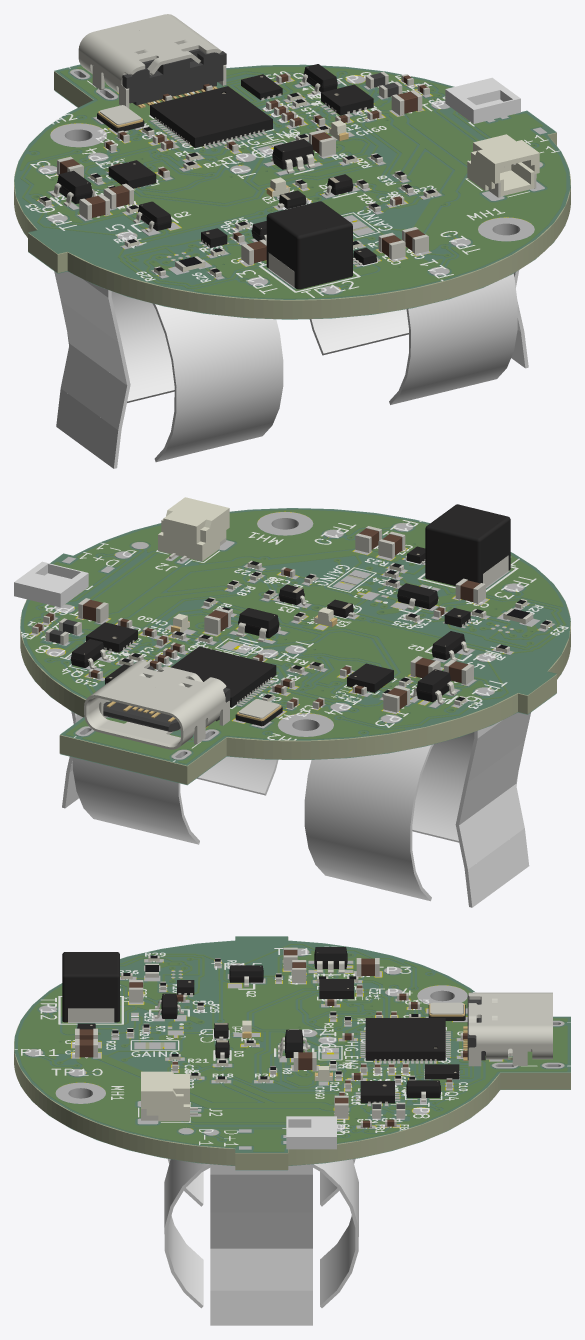
Rendered from handbell-pcba.glb.
3 renders of one model, top to bottom at view 1: azimuth 30°, elevation 25°; view 2: azimuth 150°, elevation 25°; view 3: azimuth 270°, elevation 25°, orthographic. The views are drawn at different scales.
Visible parts, largest first — view 1: =>[0:1:1:51], =>[0:1:1:45] (×2), =>[0:1:1:46], =>[0:1:1:53], =>[0:1:1:9], =>[0:1:1:47], =>[0:1:1:33], =>[0:1:1:49], =>[0:1:1:25], =>[0:1:1:31], =>[0:1:1:41], =>[0:1:1:15] (×4) (+6 smaller); view 2: =>[0:1:1:51], =>[0:1:1:45] (×2), =>[0:1:1:46], =>[0:1:1:53], =>[0:1:1:9], =>[0:1:1:47], =>[0:1:1:49], =>[0:1:1:33], =>[0:1:1:15] (×7), =>[0:1:1:31], =>[0:1:1:25], =>[0:1:1:41] (+6 smaller); view 3: =>[0:1:1:51], =>[0:1:1:46], =>[0:1:1:45] (×2), =>[0:1:1:53], =>[0:1:1:47], =>[0:1:1:9], =>[0:1:1:49], =>[0:1:1:33], =>[0:1:1:25], =>[0:1:1:31], =>[0:1:1:17] (×3), =>[0:1:1:41] (+5 smaller).
Boxes of the visible parts, x1,y1,x2,y2 form: =>[0:1:1:51]: (14, 64, 570, 299); =>[0:1:1:45] (×2): (54, 270, 528, 468); =>[0:1:1:46]: (20, 67, 565, 298); =>[0:1:1:53]: (14, 65, 570, 319); =>[0:1:1:9]: (78, 14, 226, 108); =>[0:1:1:47]: (37, 69, 546, 294); =>[0:1:1:33]: (266, 201, 352, 289); =>[0:1:1:49]: (25, 67, 559, 297); =>[0:1:1:25]: (150, 86, 272, 147); =>[0:1:1:31]: (467, 134, 539, 197); =>[0:1:1:41]: (445, 77, 520, 123); =>[0:1:1:15] (×4): (79, 90, 422, 259); =>[0:1:1:51]: (20, 508, 570, 765); =>[0:1:1:45] (×2): (62, 711, 530, 907); =>[0:1:1:46]: (24, 510, 565, 763); =>[0:1:1:53]: (20, 509, 570, 784); =>[0:1:1:9]: (84, 660, 230, 749); =>[0:1:1:47]: (30, 512, 554, 759); =>[0:1:1:49]: (21, 520, 568, 761); =>[0:1:1:33]: (425, 504, 510, 587); =>[0:1:1:15] (×7): (78, 526, 485, 712); =>[0:1:1:31]: (158, 497, 229, 561); =>[0:1:1:25]: (171, 646, 276, 707); =>[0:1:1:41]: (14, 561, 88, 607); =>[0:1:1:51]: (14, 936, 570, 1152); =>[0:1:1:46]: (18, 944, 566, 1151); =>[0:1:1:45] (×2): (164, 1159, 358, 1325); =>[0:1:1:53]: (14, 937, 570, 1169); =>[0:1:1:47]: (25, 948, 563, 1149); =>[0:1:1:9]: (463, 992, 552, 1066); =>[0:1:1:49]: (14, 946, 570, 1146); =>[0:1:1:33]: (62, 952, 119, 1022); =>[0:1:1:25]: (365, 1018, 445, 1061); =>[0:1:1:31]: (141, 1071, 197, 1121); =>[0:1:1:17] (×3): (155, 965, 440, 1101); =>[0:1:1:41]: (286, 1116, 336, 1149).
Size of the model in its own units: 0.0445 by 0.0228 by 0.0483.
